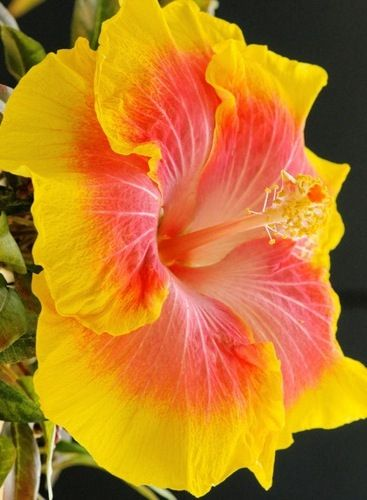Hibiscus: (1, 1, 359, 500)
